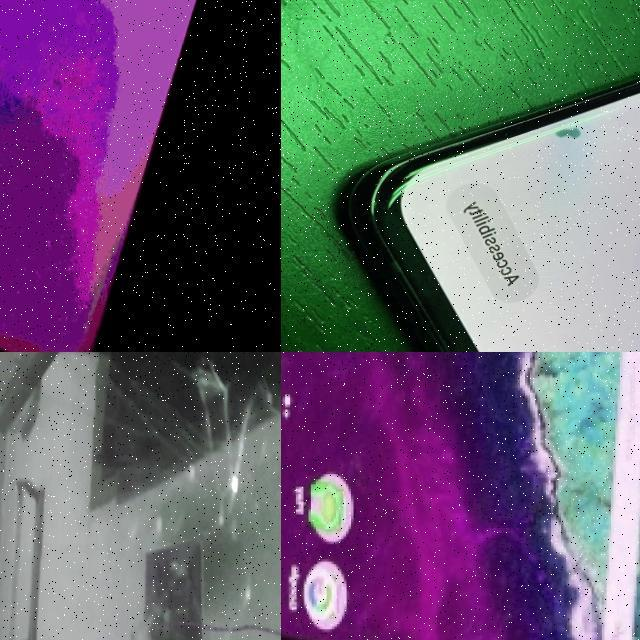dead pixel: (516, 91, 622, 175)
screen crack: (80, 352, 281, 640)
